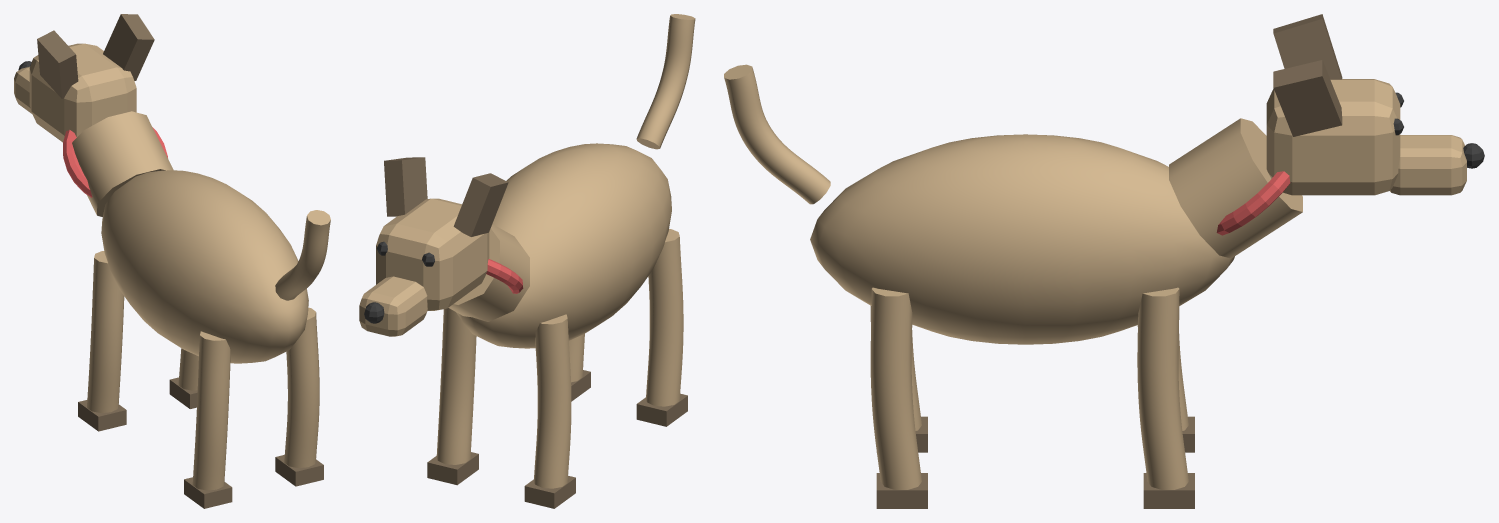
The model's file is dog.glb.
3 views of the same model, side by side, from view 1: azimuth 30°, elevation 25°; view 2: azimuth 150°, elevation 25°; view 3: azimuth 270°, elevation 25° (orthographic). The views are drawn at different scales.
Parts seen in each view (by area): view 1: dog; view 2: dog; view 3: dog.
Part boxes in pixels (x1=…): dog: x1=14, y1=14, x2=330, y2=508; dog: x1=359, y1=14, x2=695, y2=508; dog: x1=724, y1=14, x2=1484, y2=508.
Bounding box in the file's own units: 0.38 × 0.9307 × 1.48.
